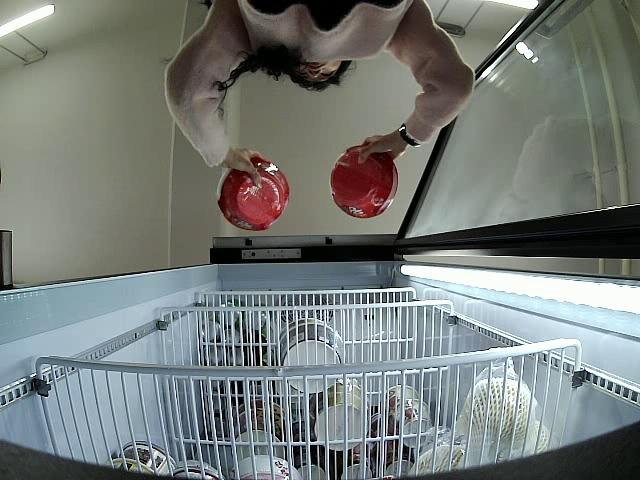00_hand: (221, 147, 271, 189), (358, 131, 405, 165)
10_wangTtukkeong: (216, 159, 290, 230), (330, 145, 399, 217)
